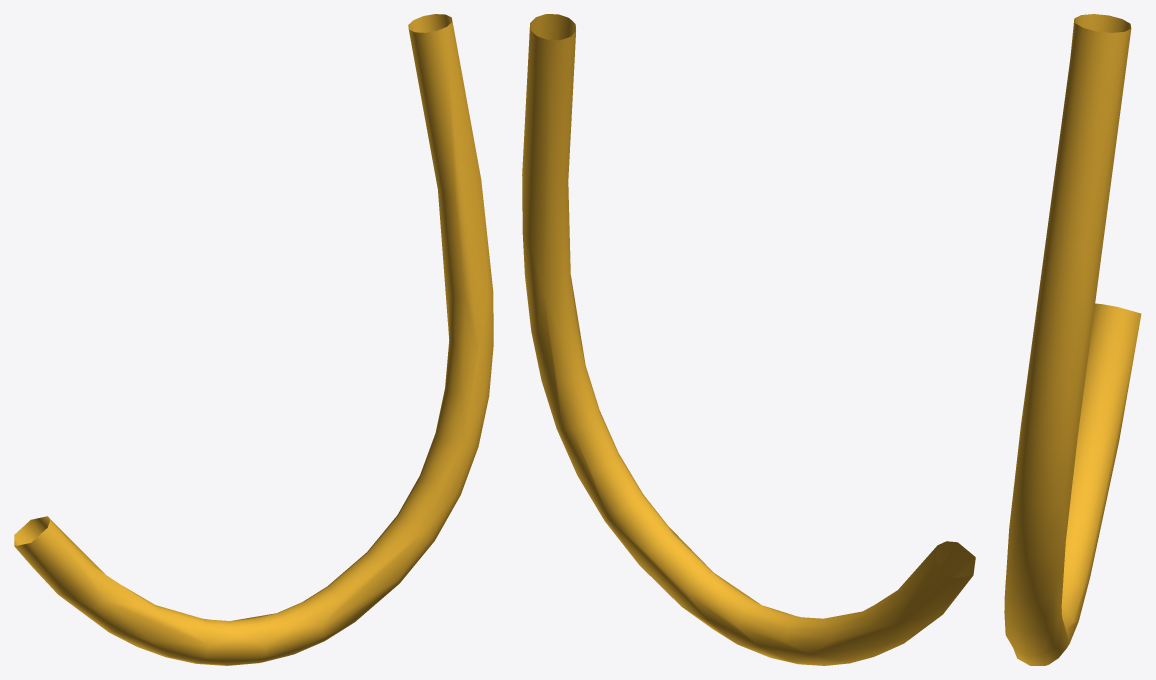
Rendered from nervoso-communicating-branch-of-median-nerve-with-ulnar-nerve-l.glb.
The picture shows the model from 3 angles, left to right: view 1: azimuth 30°, elevation 25°; view 2: azimuth 150°, elevation 25°; view 3: azimuth 270°, elevation 25°; orthographic projection. The views are drawn at different scales.
Visible parts, largest first — view 1: (Communicating branch of median nerve with ulnar nerve).l; view 2: (Communicating branch of median nerve with ulnar nerve).l; view 3: (Communicating branch of median nerve with ulnar nerve).l.
Part boxes in pixels (<box>): (Communicating branch of median nerve with ulnar nerve).l: <box>14,14,493,665</box>; (Communicating branch of median nerve with ulnar nerve).l: <box>522,14,975,665</box>; (Communicating branch of median nerve with ulnar nerve).l: <box>1004,14,1141,665</box>.
Bounding box in the file's own units: 0.0114 × 0.014 × 0.00233.
